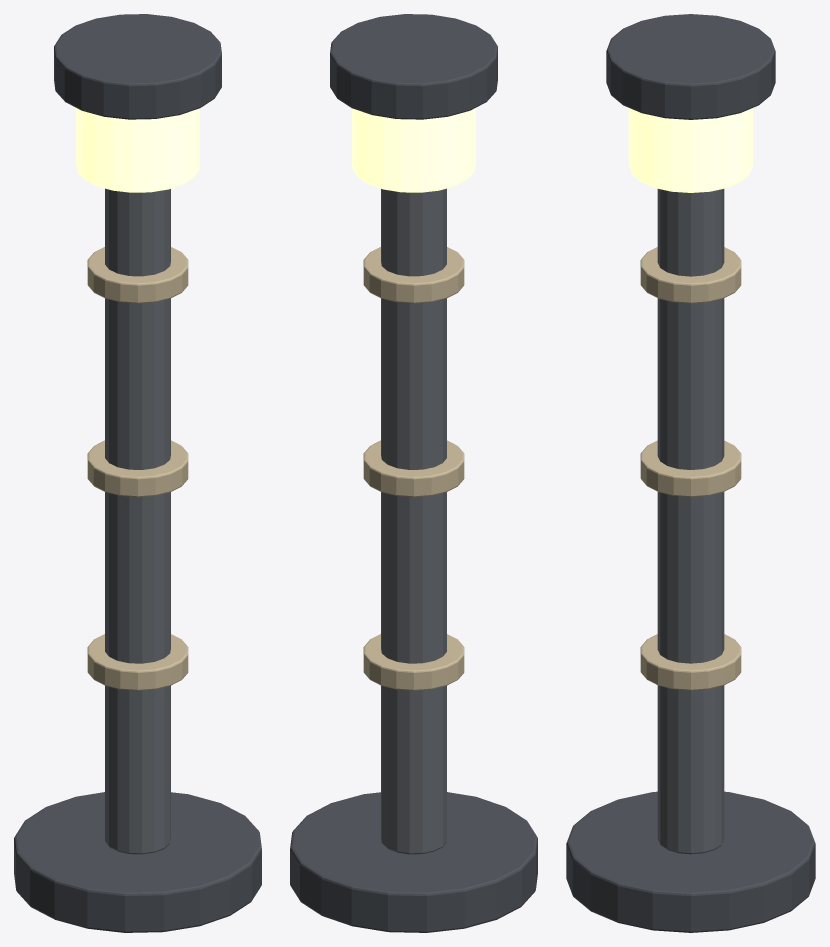
Rendered from prop_beacon.fbx.
The picture shows the model from 3 angles, left to right: view 1: azimuth 30°, elevation 25°; view 2: azimuth 150°, elevation 25°; view 3: azimuth 270°, elevation 25°; orthographic projection.
Parts seen in each view (by area): view 1: SM_Prop_Beacon; view 2: SM_Prop_Beacon; view 3: SM_Prop_Beacon.
Boxes of the visible parts, box(x1,y1,x2,y2) form: SM_Prop_Beacon: box(14, 14, 261, 932); SM_Prop_Beacon: box(290, 14, 537, 932); SM_Prop_Beacon: box(566, 14, 815, 932).
Size of what is drawn, in the model's own units: 56 by 207 by 56.
